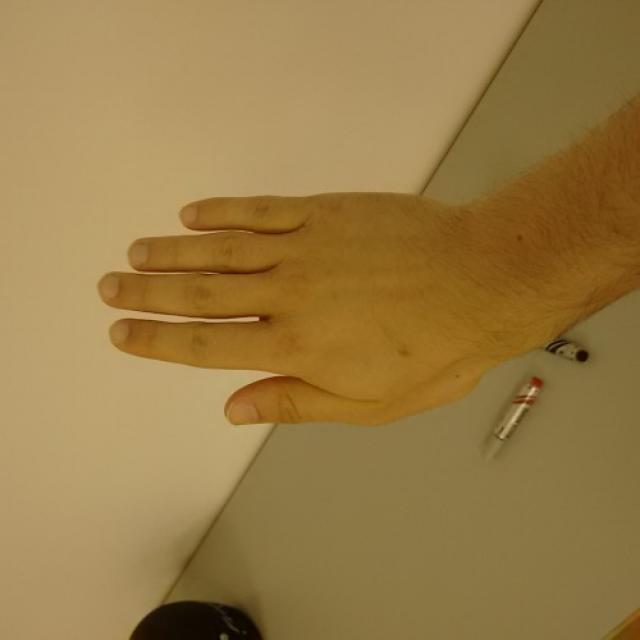paper: (101, 195, 516, 425)
